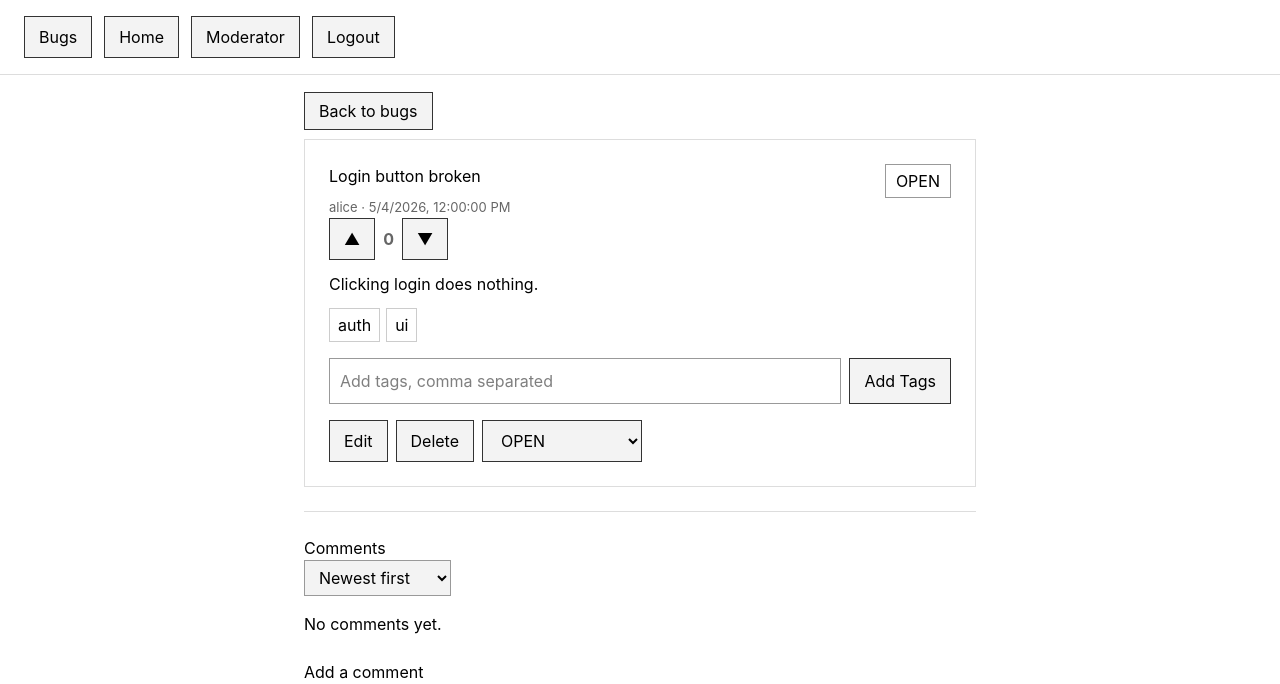
Test case: bugs › lets a moderator change status from the dropdown
This screenshot has width=1280, height=684.
Select "CLOSED" in the dropdown named "Bug status" at (562, 441), box [482,420,642,462]
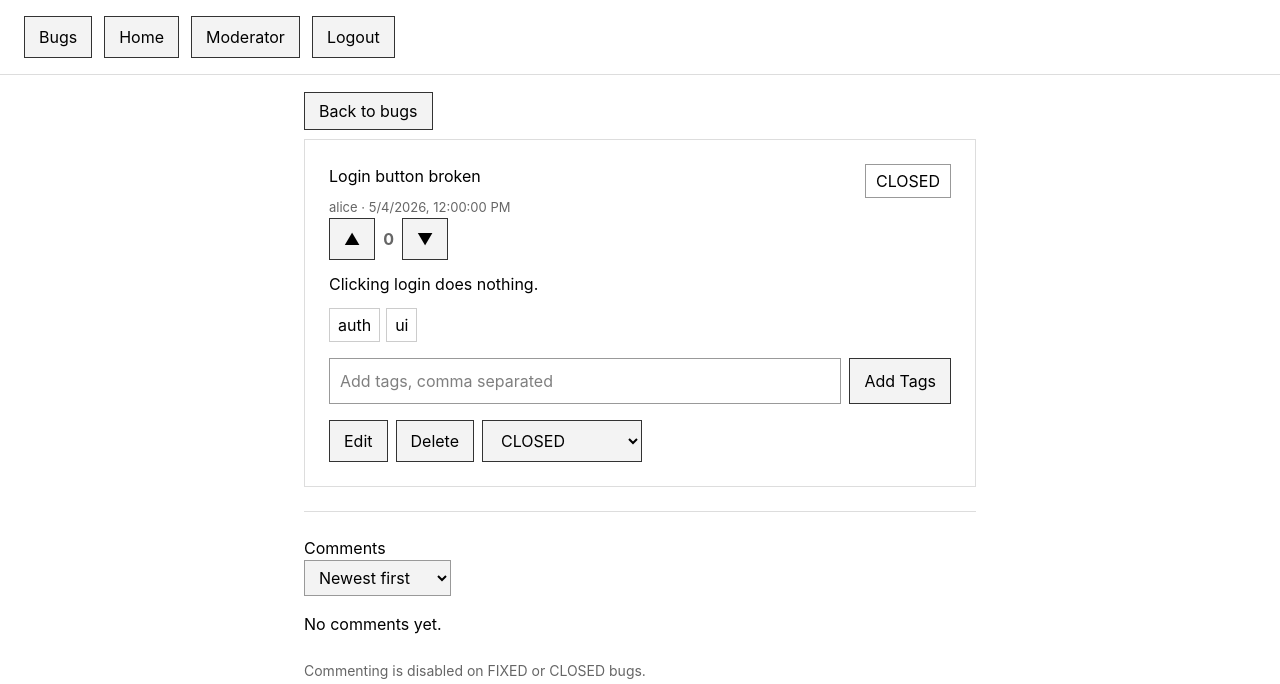
Now the text "CLOSED" is shown, box [865,164,951,198]
